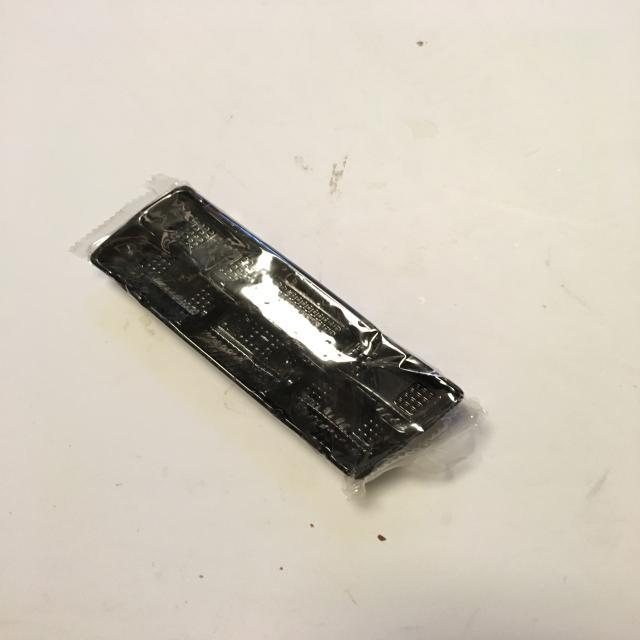plastic: (67, 169, 491, 501)
